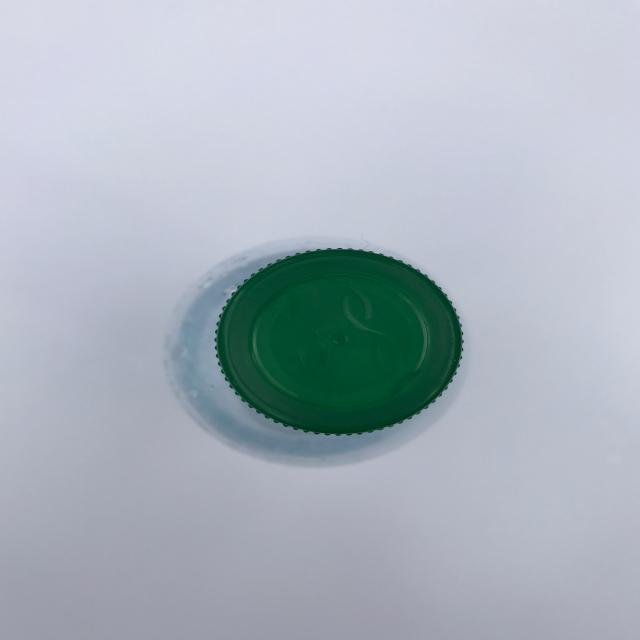plastic: (213, 246, 464, 436)
